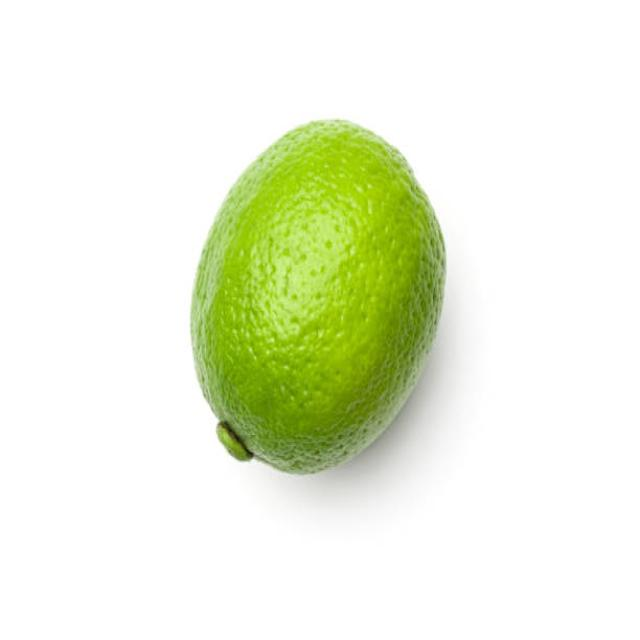Unripe: (190, 113, 448, 476)
